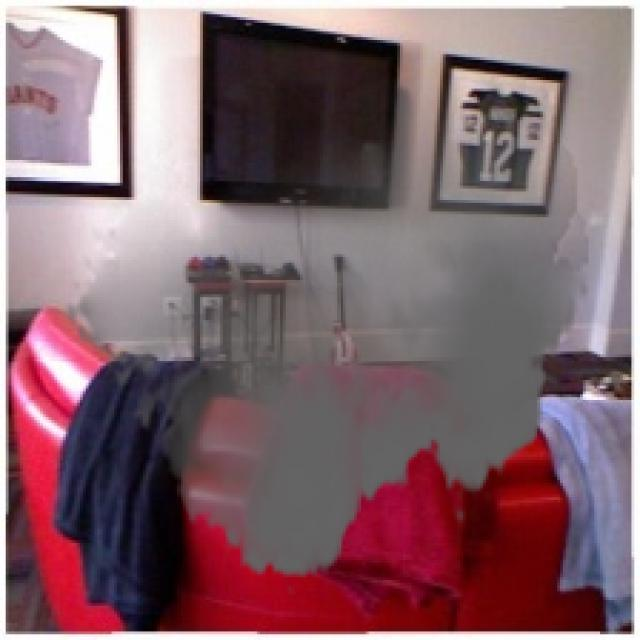Smoke: (62, 57, 588, 597)
